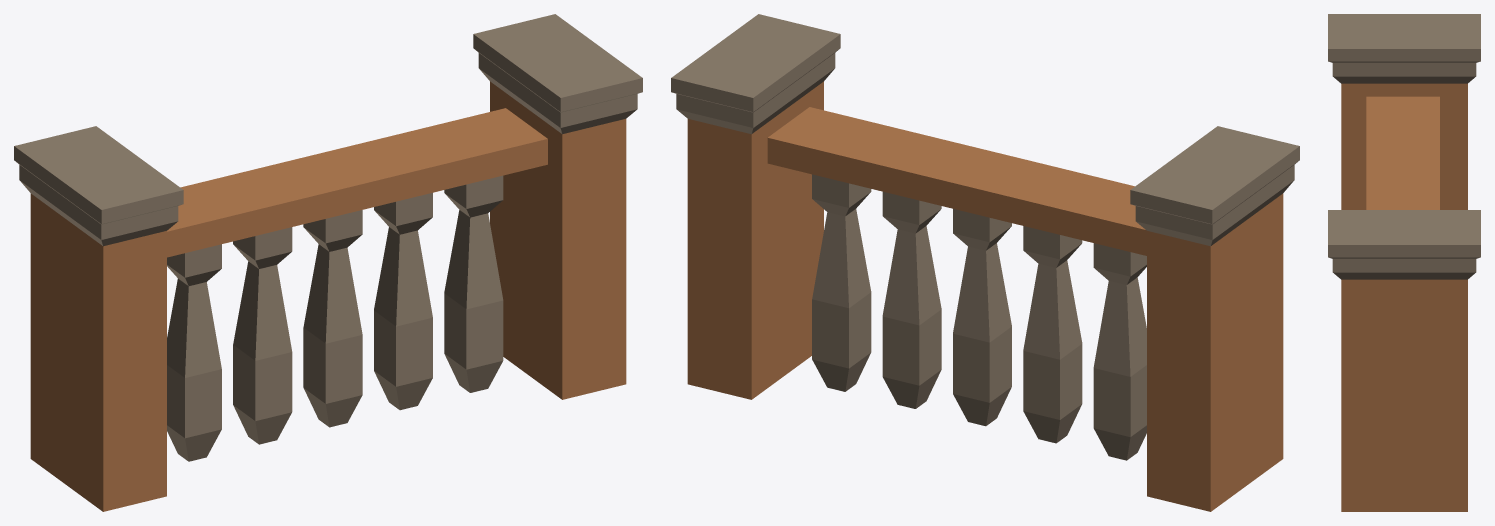
Rendered from SM_Prop_RoofFence_01.glb.
The picture shows the model from 3 angles, left to right: view 1: azimuth 30°, elevation 25°; view 2: azimuth 150°, elevation 25°; view 3: azimuth 270°, elevation 25°; orthographic projection. The views are drawn at different scales.
Visible parts, largest first — view 1: SM_Prop_RoofFence_01; view 2: SM_Prop_RoofFence_01; view 3: SM_Prop_RoofFence_01.
Part boxes in pixels (left/top/right/bottom): SM_Prop_RoofFence_01: left=14, top=14, right=642, bottom=511; SM_Prop_RoofFence_01: left=671, top=14, right=1299, bottom=511; SM_Prop_RoofFence_01: left=1328, top=14, right=1480, bottom=511.
Size of the model in its own units: 0.0173 by 0.00946 by 0.00484.
